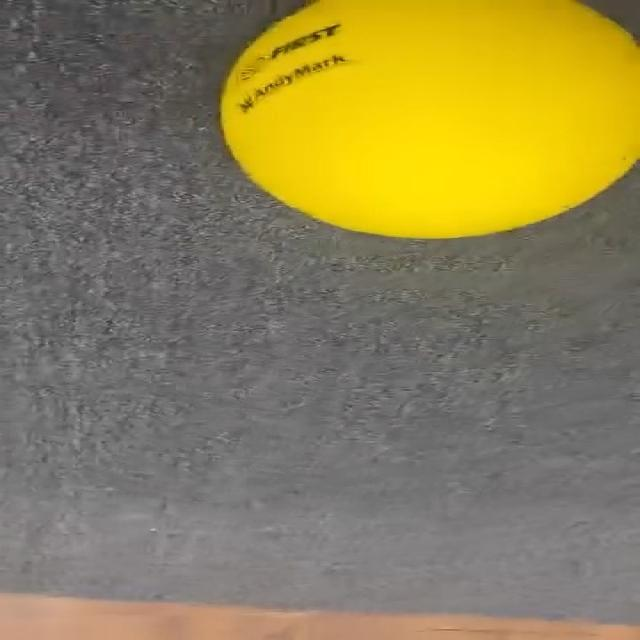Fuels: (222, 0, 640, 241)
